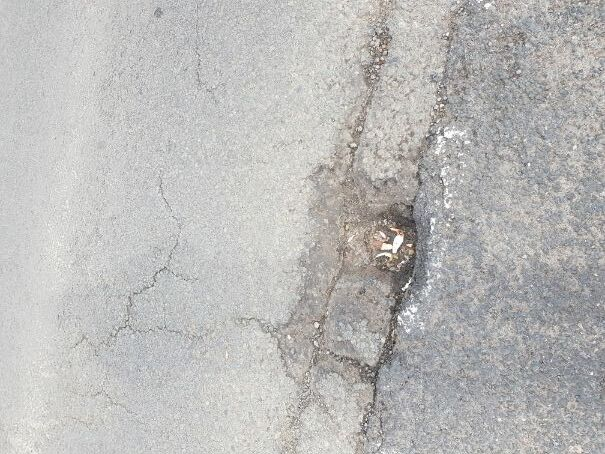pothole: (270, 150, 435, 403)
